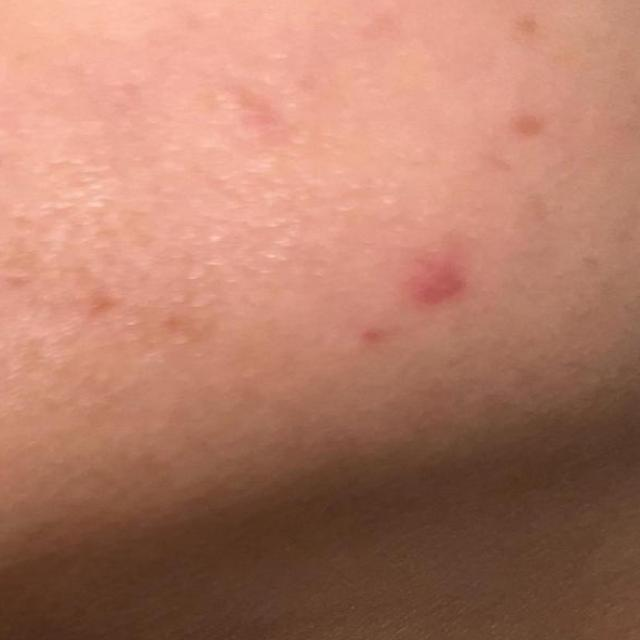papule: (345, 228, 521, 342)
